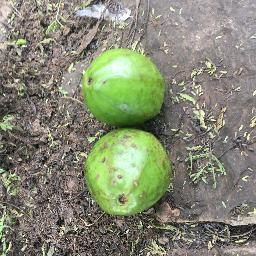Good_guava: (79, 133, 173, 217), (74, 46, 172, 125)
